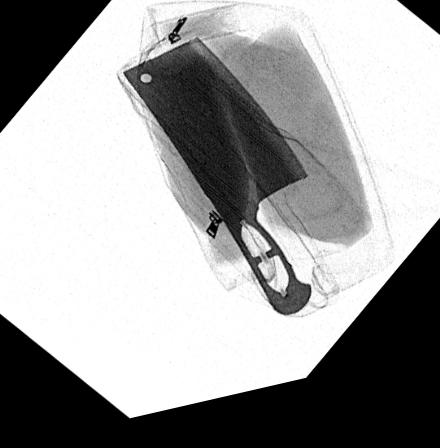Knife: (121, 44, 311, 328)
